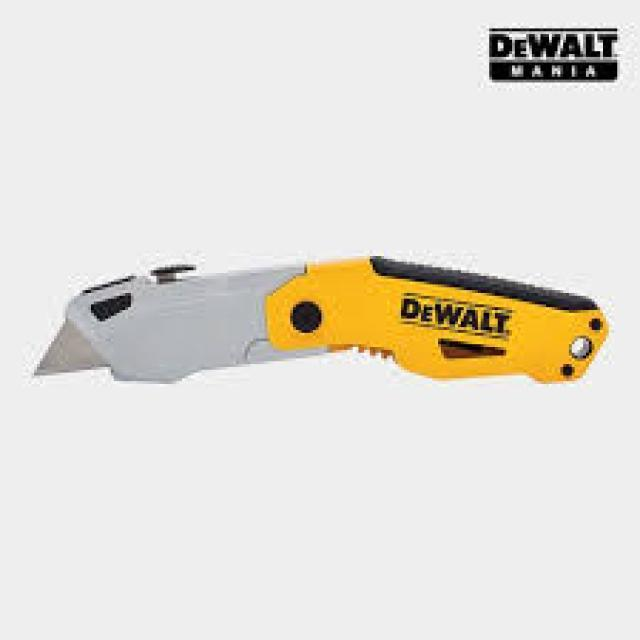cutter: (29, 248, 623, 404)
